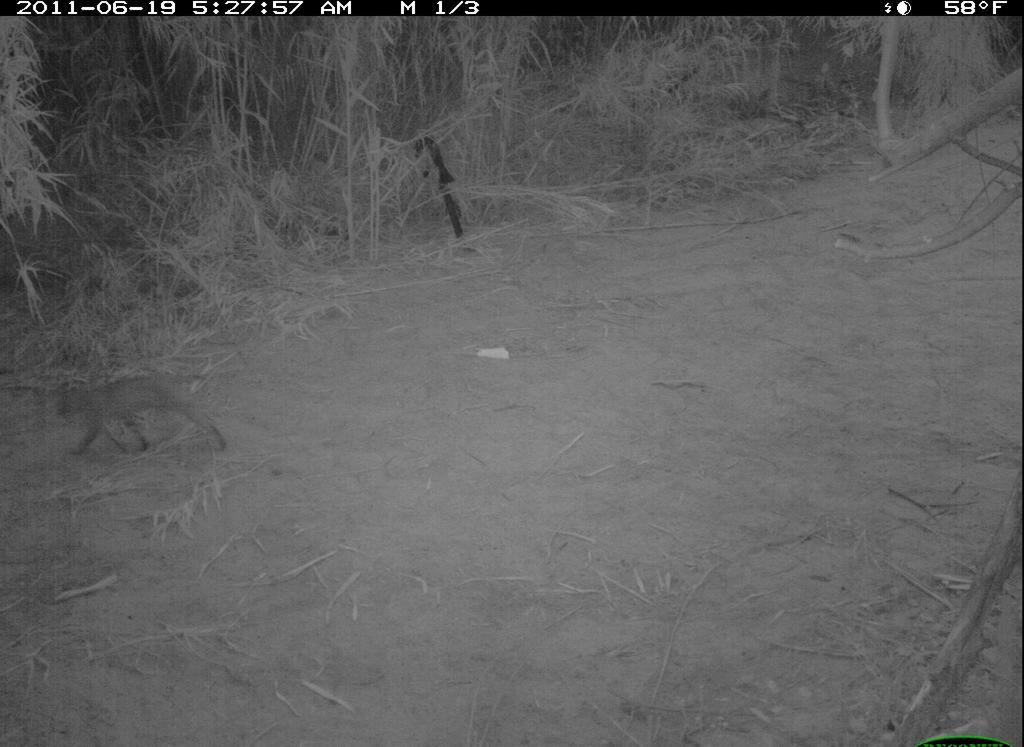bobcat: (41, 346, 249, 469)
